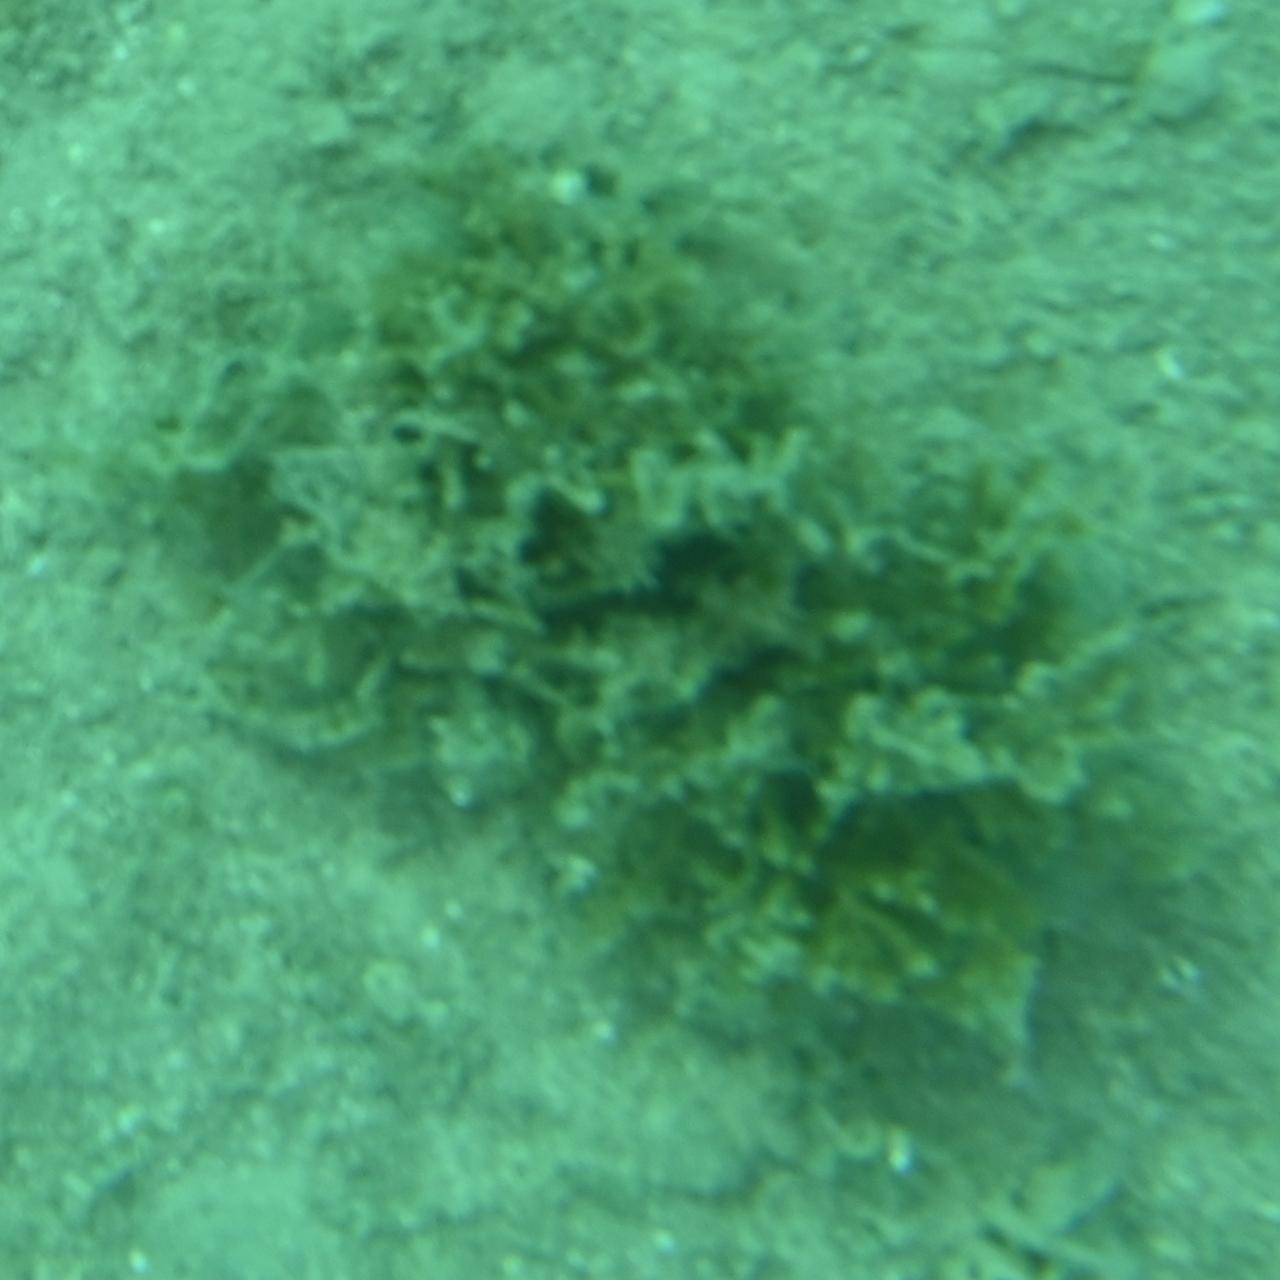Phaeophyceae -cfr Cystoseira-: (123, 156, 1157, 1124)
